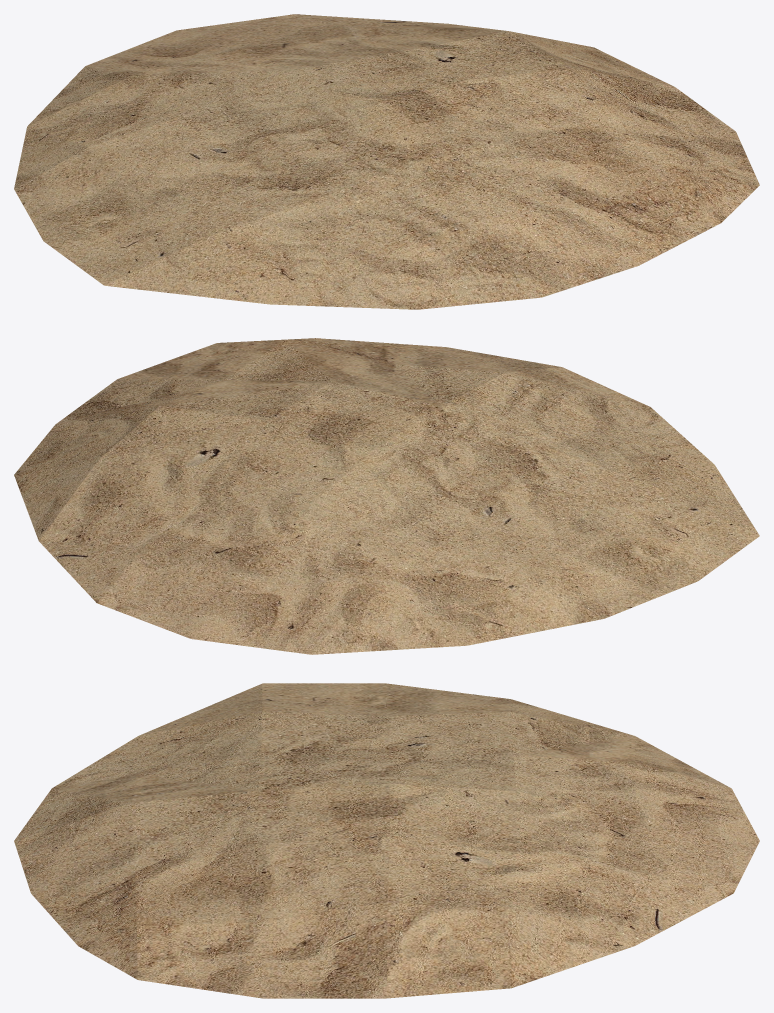
The model's file is sand_pile.dae.
The picture shows the model from 3 angles, top to bottom: view 1: azimuth 30°, elevation 25°; view 2: azimuth 150°, elevation 25°; view 3: azimuth 270°, elevation 25°; orthographic projection. The views are drawn at different scales.
Visible parts, largest first — view 1: pPlane2; view 2: pPlane2; view 3: pPlane2.
Boxes of the visible parts, x1,y1,x2,y2 form: pPlane2: [14, 14, 759, 309]; pPlane2: [14, 338, 759, 654]; pPlane2: [14, 683, 759, 998].
Bounding box in the file's own units: 3 × 0.2553 × 3.
